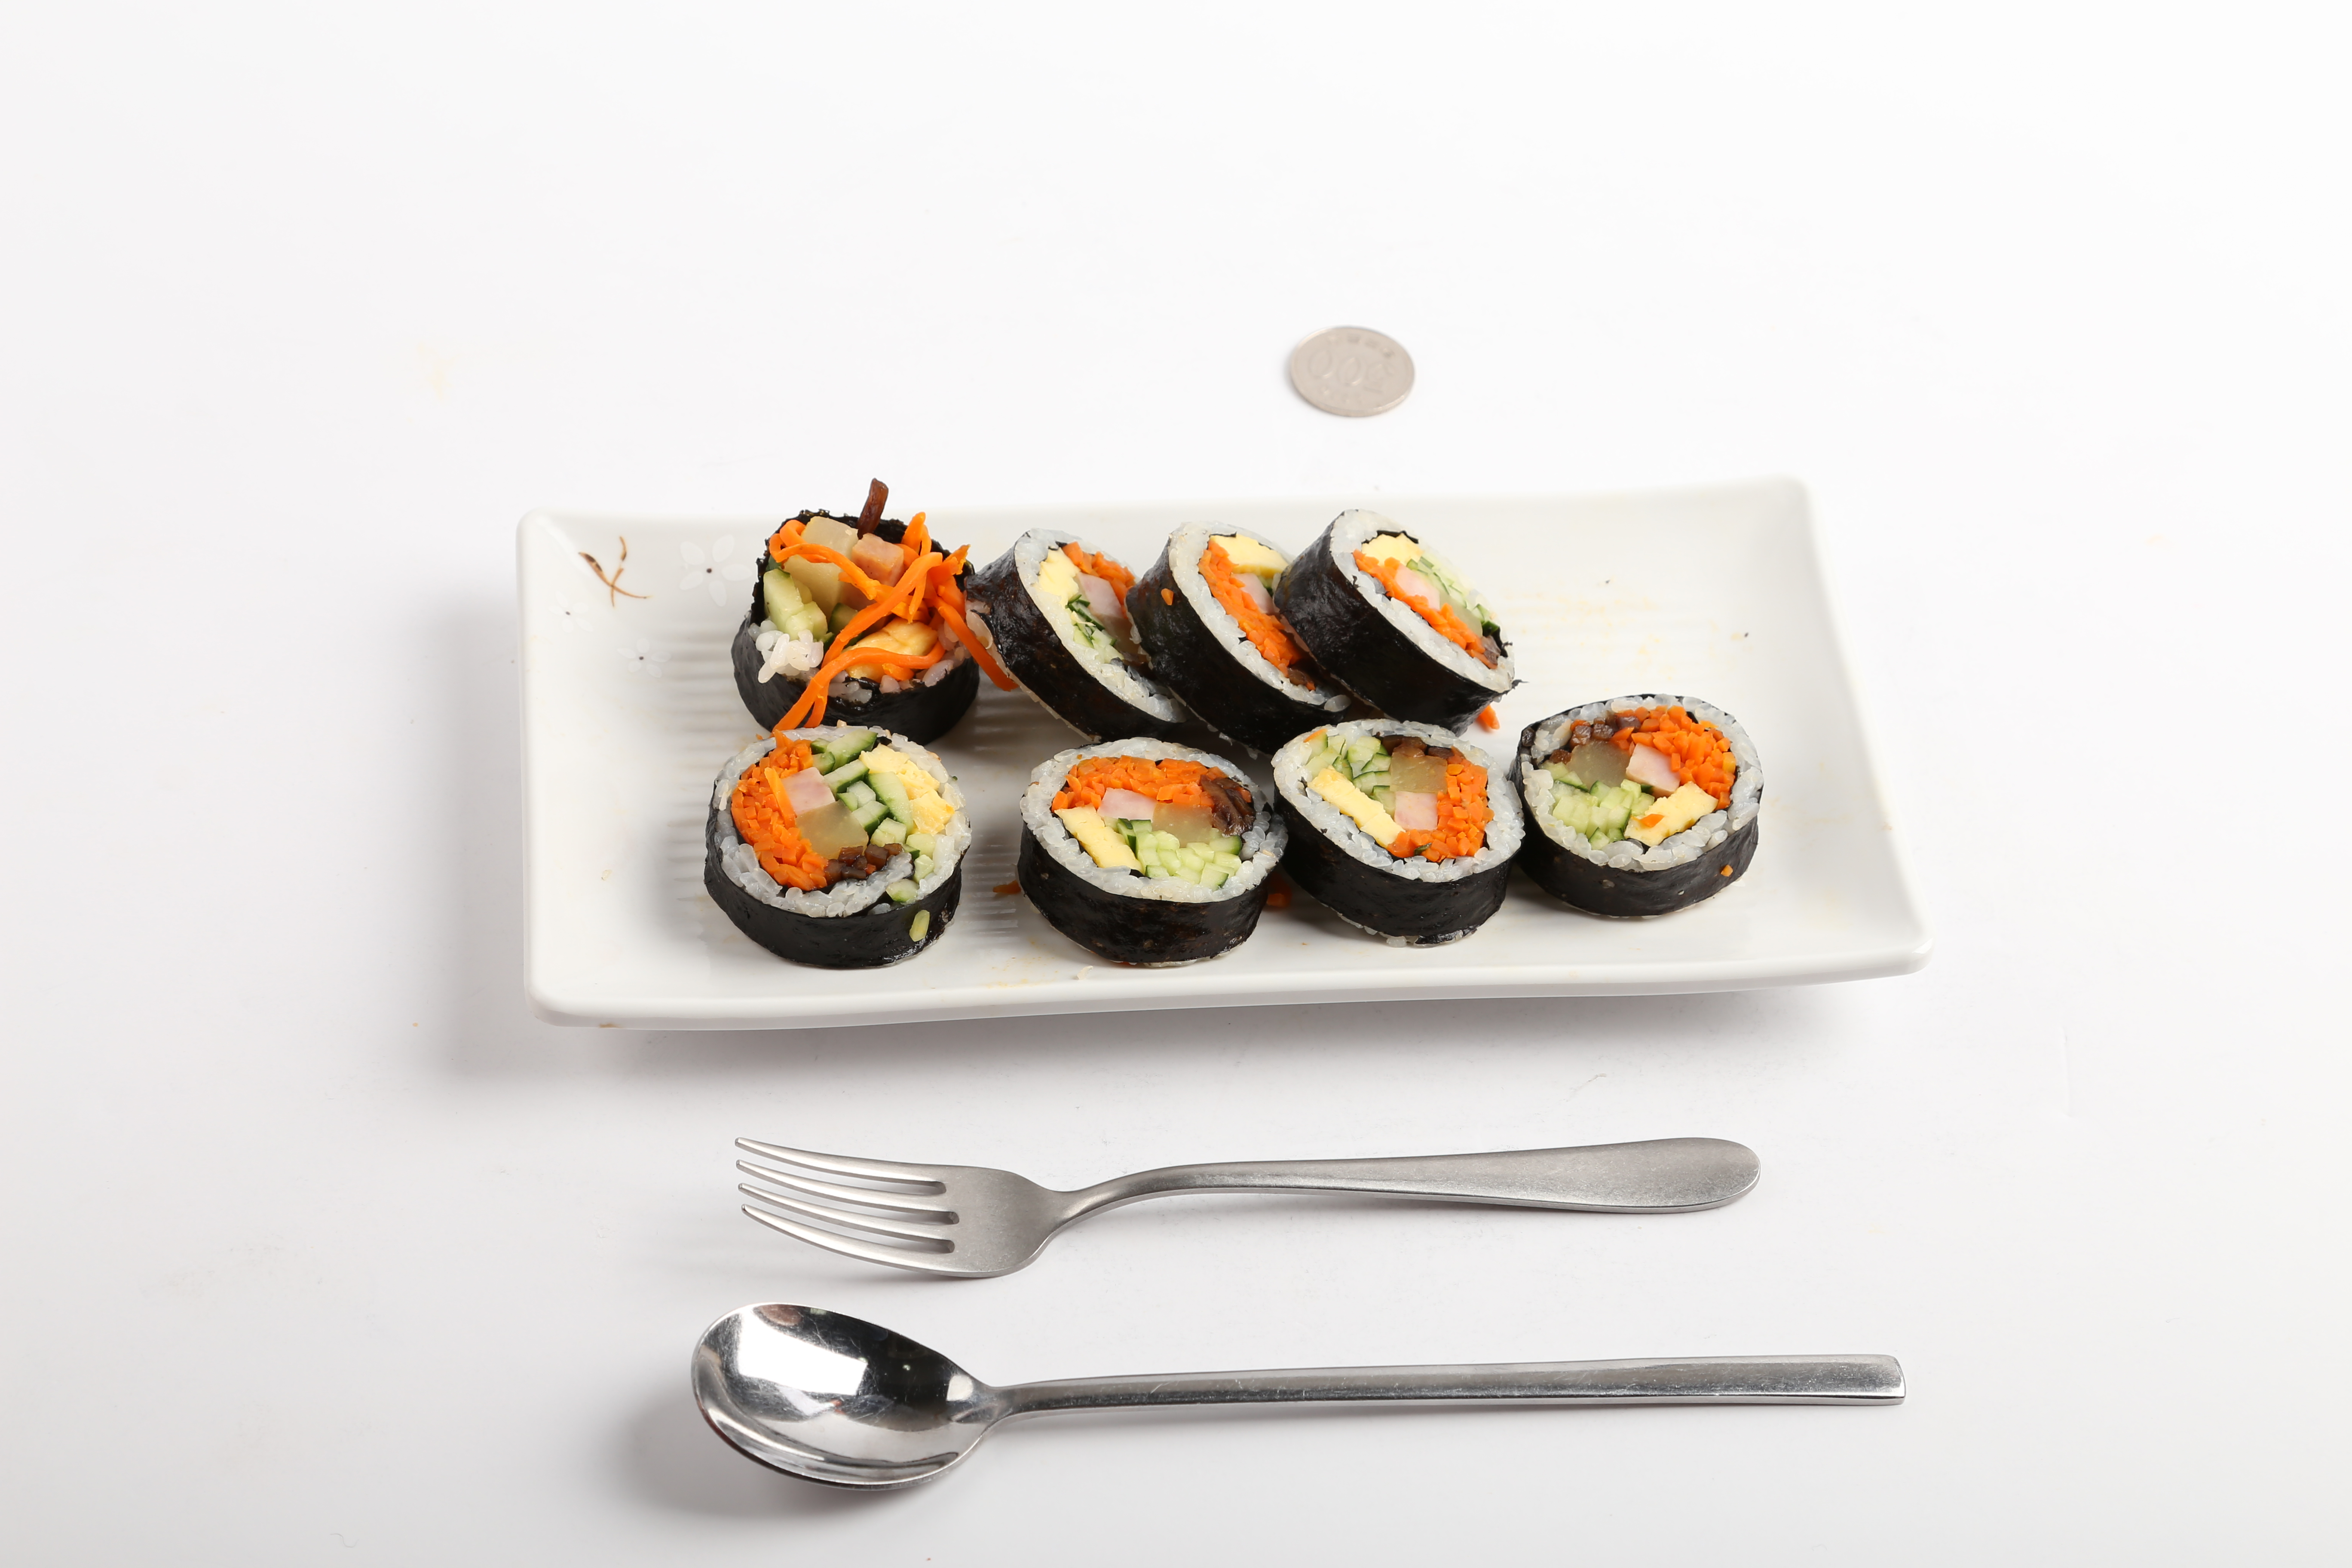dish: (507, 465, 1930, 1038)
ref_coin: (1281, 313, 1421, 425)
ref_fork: (735, 1118, 1134, 1281)
ref_spoon: (686, 1293, 1057, 1507)
김밥: (696, 483, 1764, 971)
